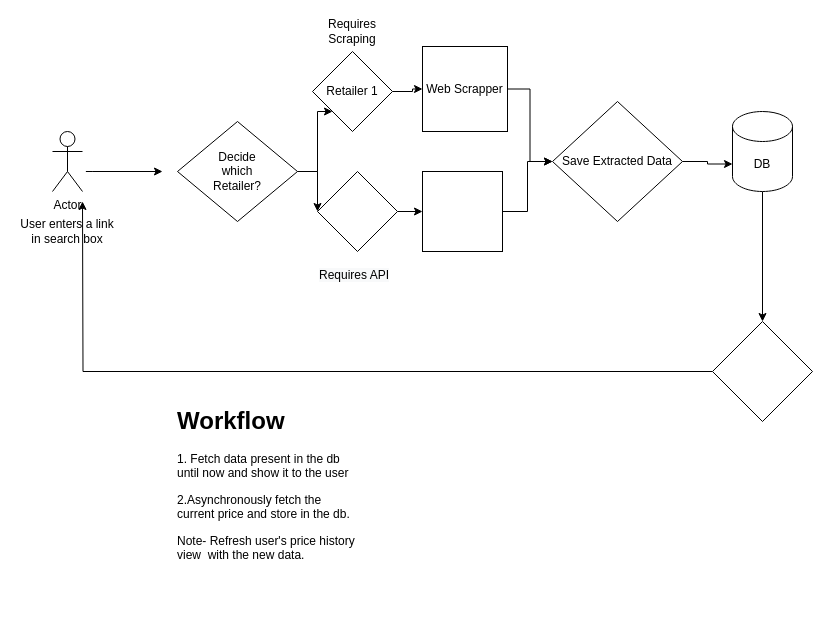
The diagram is 830 pixels wide and 619 high, and some of its shapes have lost their labels. Each missing label, with the centre of its shape:
"API Service" goes at point 462,211.
"Read Data History" goes at point 762,371.
"Retailer 2" goes at point 357,211.
